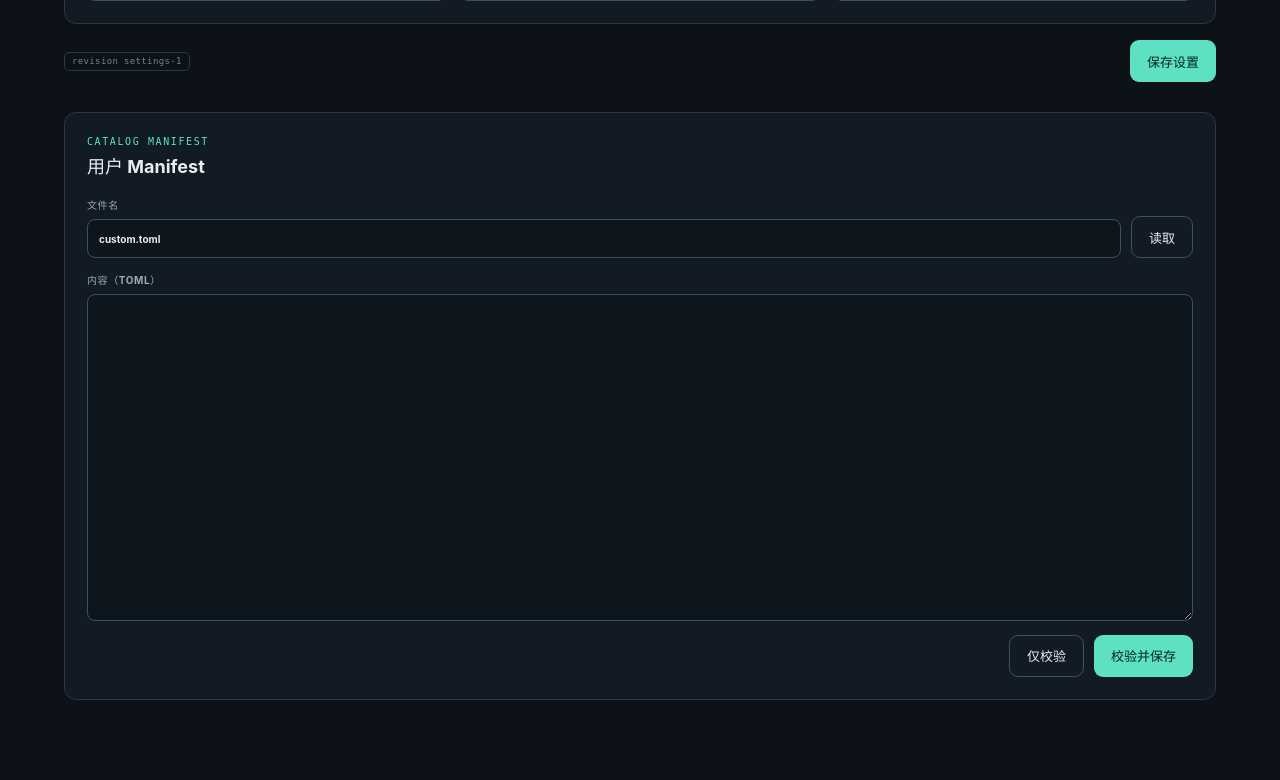
Test case: SettingsView revision conflicts › keeps manifest contents and advances the remote revision after conflict
(page scrolled)
Type "id = \"local\"" into the text box labelled "内容（TOML）" at [640, 458], box [87, 294, 1193, 621]
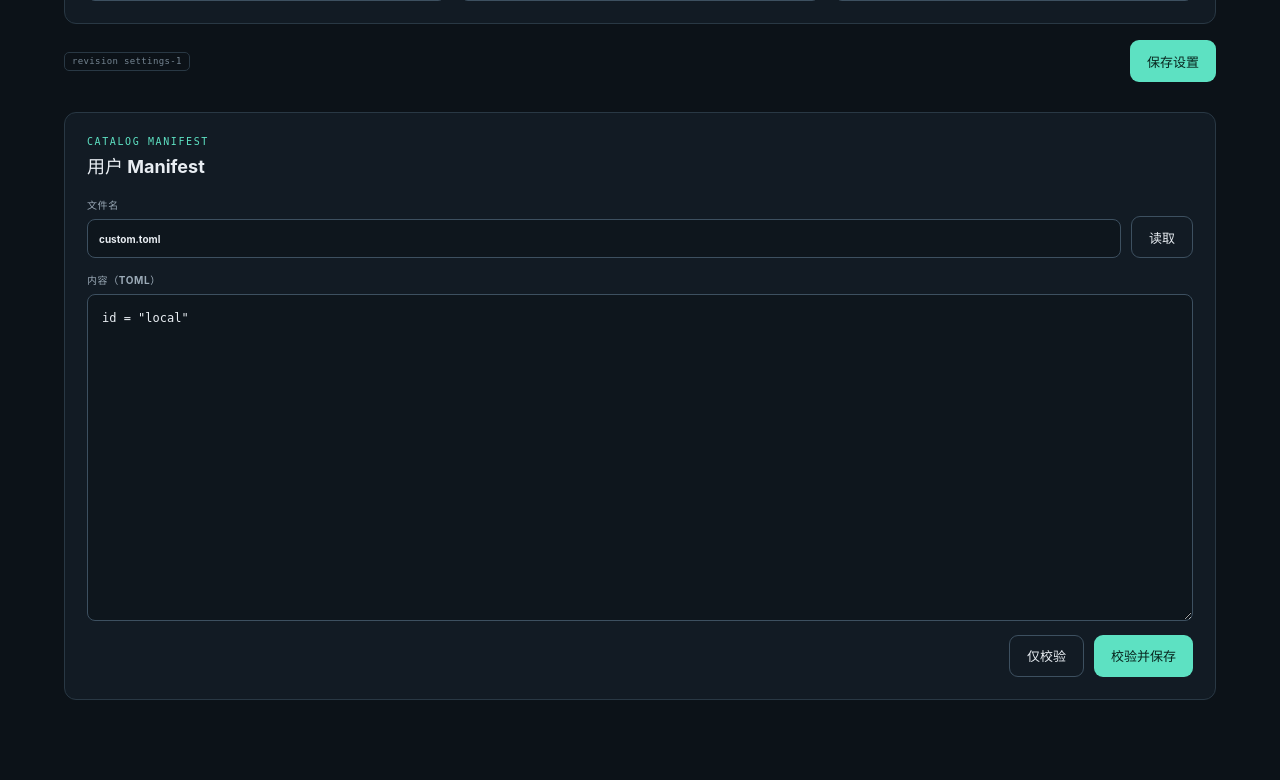
Click the button "校验并保存" at [1144, 656], box [1094, 635, 1193, 677]
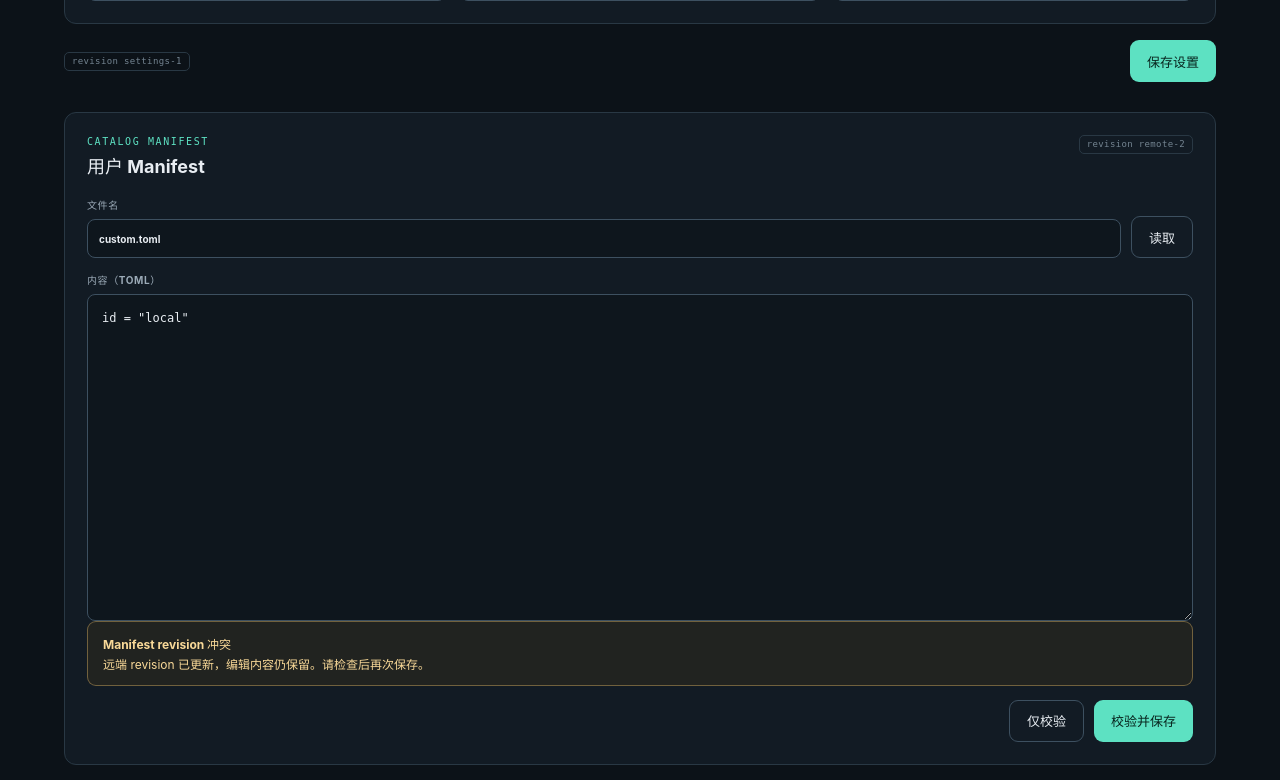
expect the text "Manifest revision 冲突" is shown: met, box [103, 637, 231, 652]
expect the text "remote-2" is shown: met, box [1087, 139, 1185, 149]
